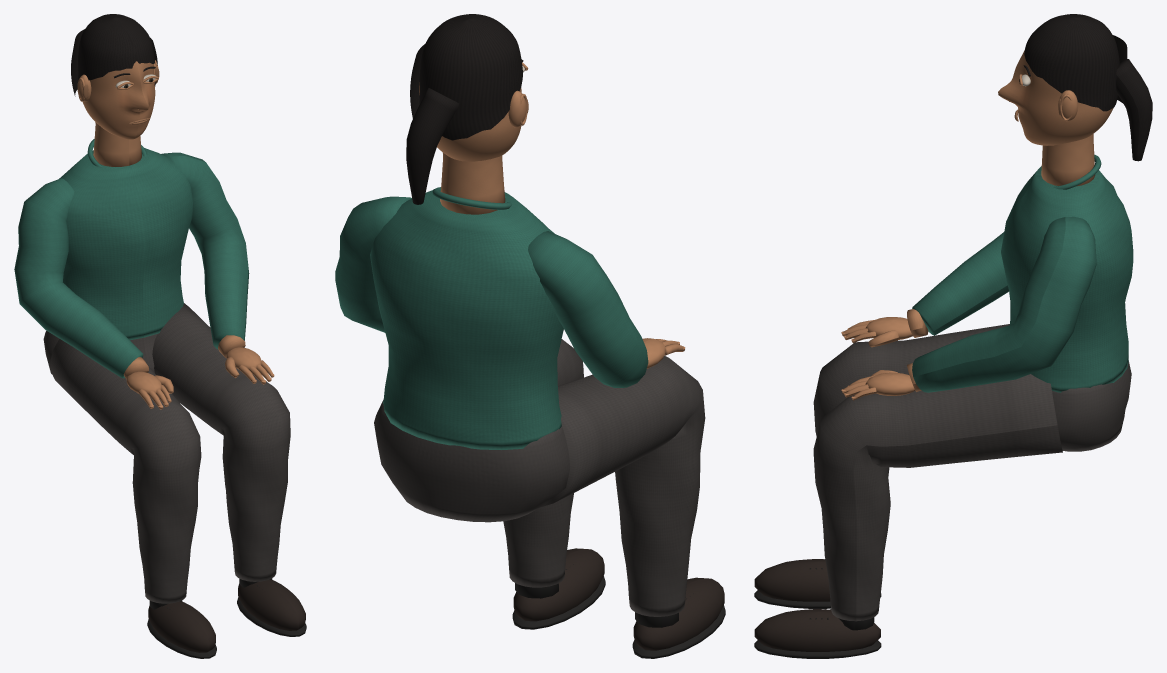
Rendered from 06_Nadia_LOD1.glb.
3 renders of one model, left to right at view 1: azimuth 30°, elevation 25°; view 2: azimuth 150°, elevation 25°; view 3: azimuth 270°, elevation 25°, orthographic. The views are drawn at different scales.
Parts seen in each view (by area): view 1: top, trousers, skin, shoes, hair, face, sole; view 2: top, trousers, hair, shoes, skin, sole, face; view 3: trousers, top, hair, shoes, skin, face, sole.
Part boxes in pixels (x1,y1,x2,y2): top: (14,139,249,378); trousers: (43,303,290,603); skin: (77,60,274,409); shoes: (148,579,305,652); hair: (71,14,157,96); face: (82,61,155,139); sole: (147,578,306,658); top: (335,187,648,449); trousers: (374,339,705,616); hair: (406,14,523,204); shoes: (513,548,724,650); skin: (419,62,684,368); sole: (512,564,725,658); face: (437,87,521,161); trousers: (813,324,1131,621); top: (912,154,1133,392); hair: (1023,14,1152,161); shoes: (754,559,880,651); skin: (841,74,1095,400); face: (998,50,1113,145); sole: (754,568,881,658).
Bounding box in the file's own units: 0.5598 × 1.28 × 0.7574.
12 materials, 12 textured.
